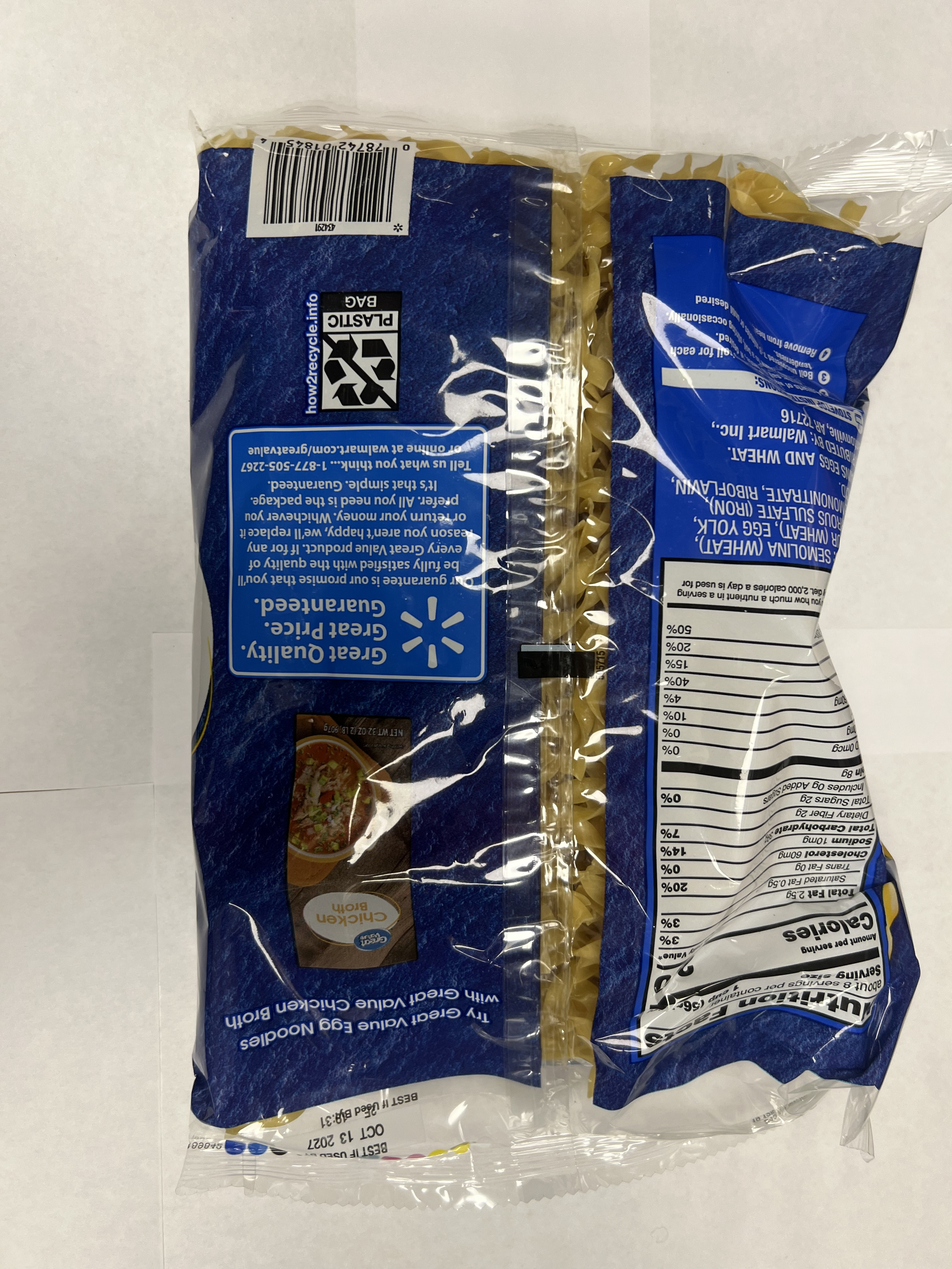packaged: (167, 105, 952, 1209)
